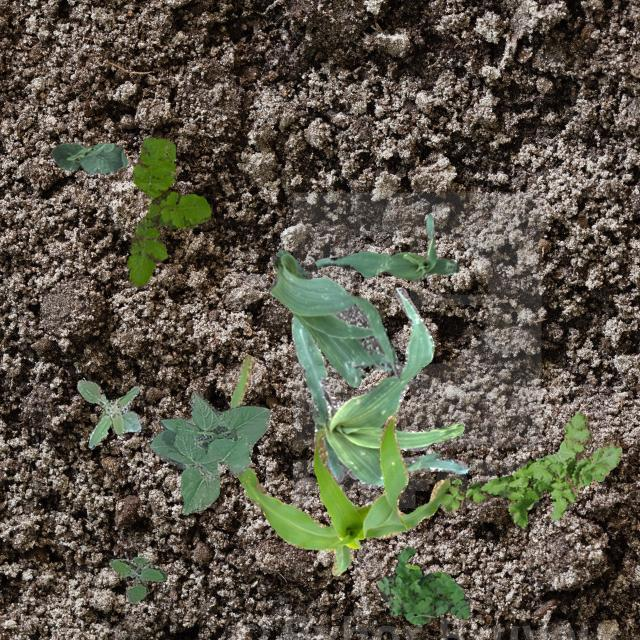crop: (230, 353, 448, 574), (290, 286, 473, 488), (268, 248, 401, 386), (148, 391, 268, 514), (314, 213, 458, 280), (50, 140, 126, 173)
weed: (439, 410, 622, 528), (126, 136, 210, 288), (376, 546, 468, 624), (76, 378, 140, 448), (108, 556, 166, 602)
